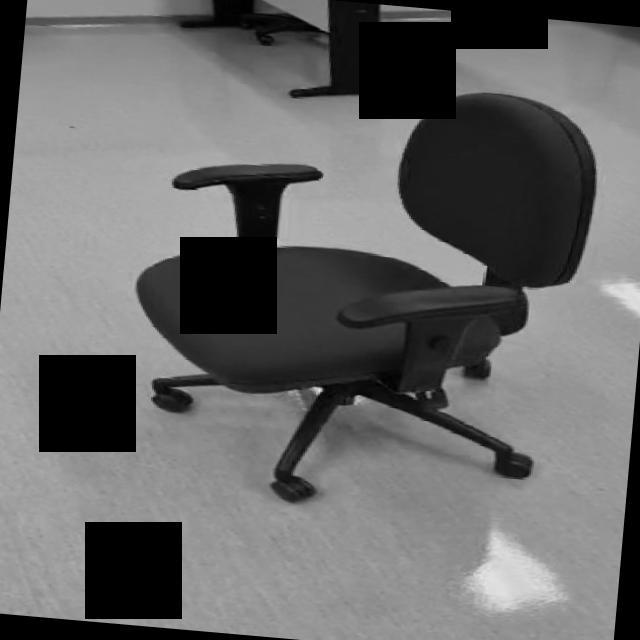chair: (118, 62, 608, 528)
